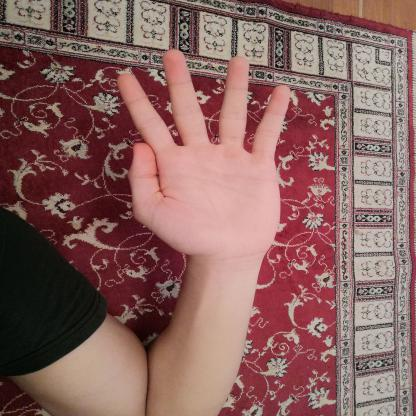SHEEN: (101, 42, 309, 274)
